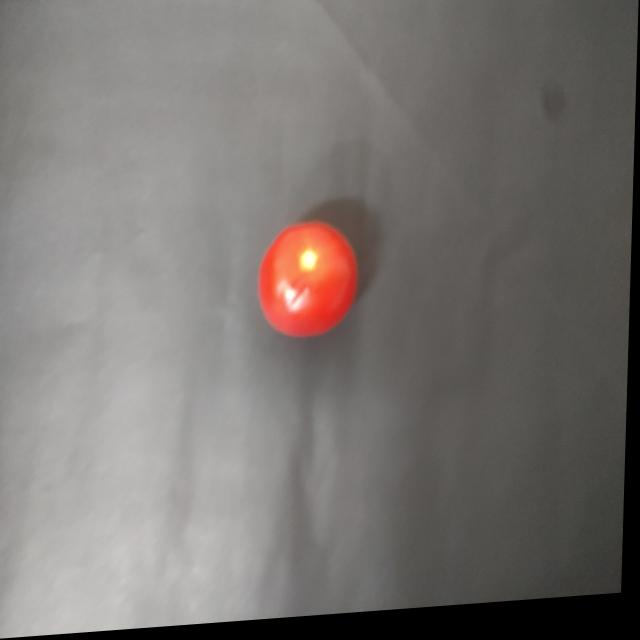kirmizi: (248, 216, 375, 355)
